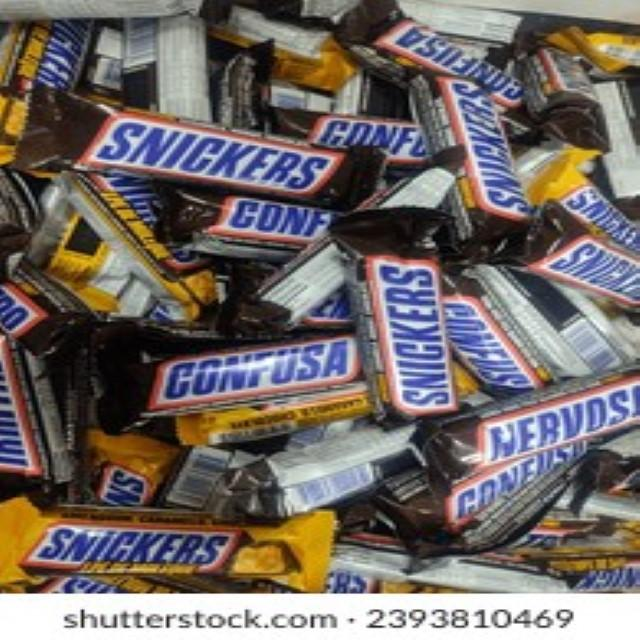snickers_chocolate: (23, 485, 312, 603), (175, 203, 418, 337), (50, 88, 337, 194), (400, 50, 533, 263), (130, 345, 403, 423), (355, 268, 460, 445), (472, 358, 638, 464), (0, 253, 56, 528), (541, 210, 640, 310)
